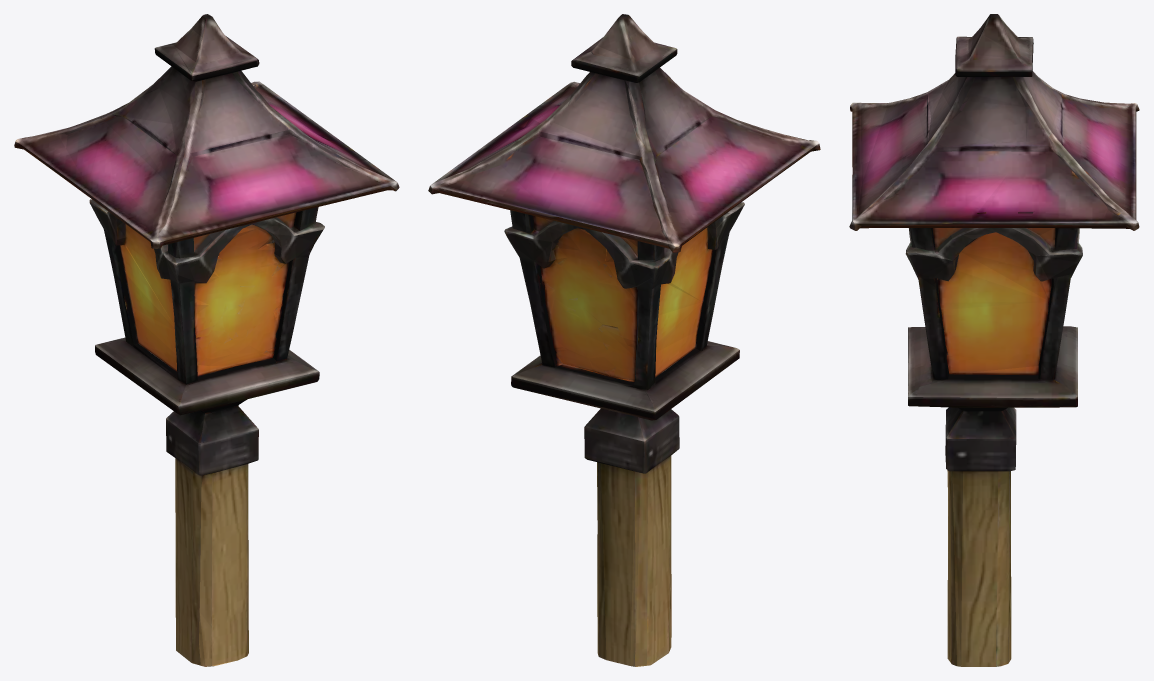
File: village_lantern_post_01.glb
3 views of the same model, side by side, from view 1: azimuth 30°, elevation 25°; view 2: azimuth 150°, elevation 25°; view 3: azimuth 270°, elevation 25° (orthographic).
Parts seen in each view (by area): view 1: geometry_0; view 2: geometry_0; view 3: geometry_0.
Part boxes in pixels (x1,y1,x2,y2): geometry_0: (14,14,399,666); geometry_0: (428,14,820,666); geometry_0: (849,14,1139,666).
Bounding box in the file's own units: 0.4113 × 0.9985 × 0.4107.
Materials: 1 (1 with a texture image).
